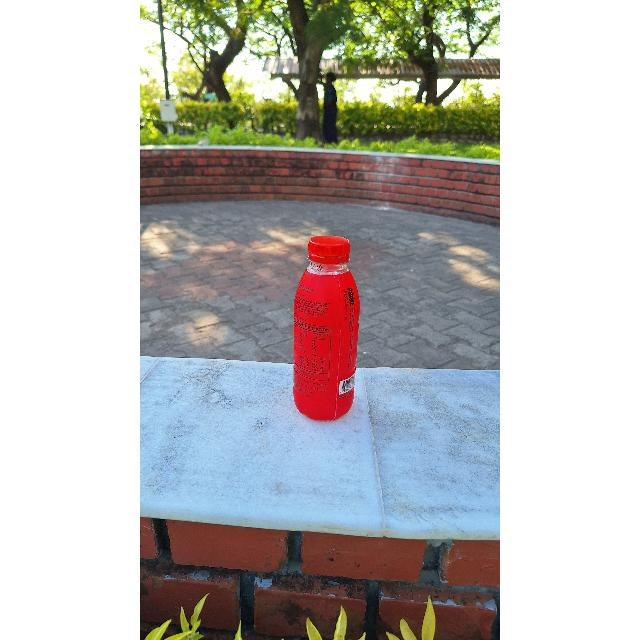Prime - Shitass: (296, 230, 358, 424)
